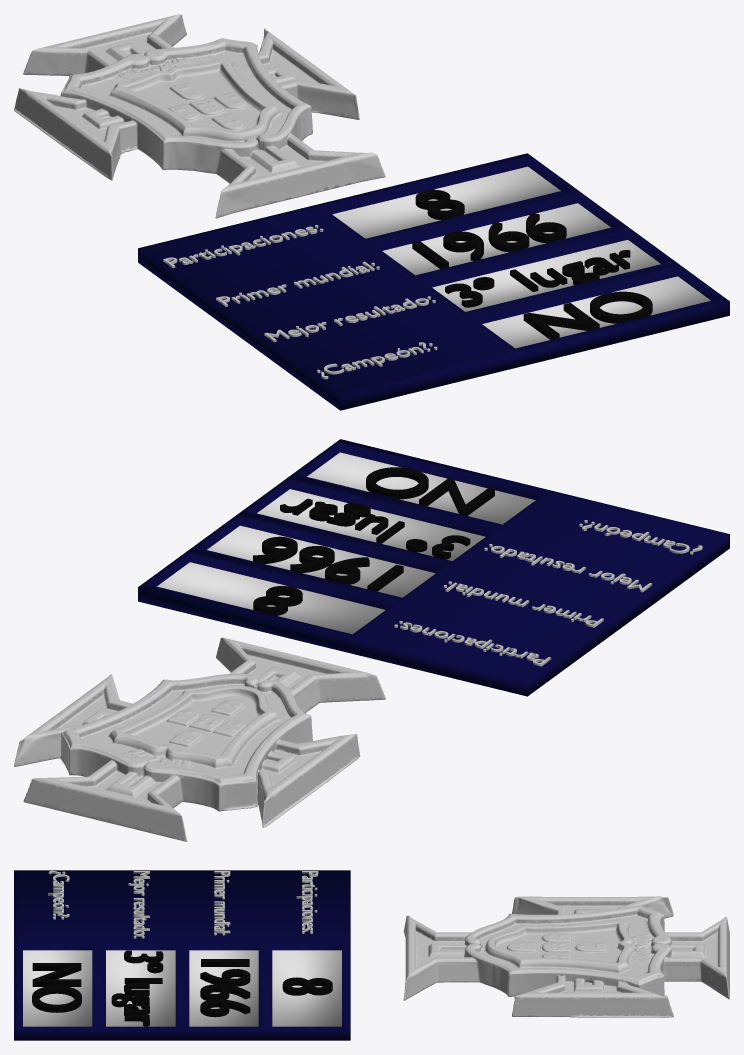
File: PORTUGAL.obj
3 views of the same model, one above another, from view 1: azimuth 30°, elevation 25°; view 2: azimuth 150°, elevation 25°; view 3: azimuth 270°, elevation 25° (orthographic). The views are drawn at different scales.
Parts seen in each view (by area): view 1: Text.006; view 2: Text.006; view 3: Text.006.
Boxes of the visible parts, x1,y1,x2,y2 form: Text.006: [14, 14, 729, 410]; Text.006: [14, 439, 729, 841]; Text.006: [14, 870, 729, 1040].
Size of the model in its own units: 2 by 0.1451 by 3.83.
